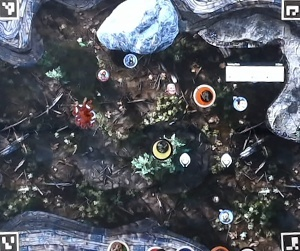giant_red_octopus: (67, 101, 96, 129)
lime_green_violet: (148, 137, 170, 160)
orange: (193, 84, 216, 107)
